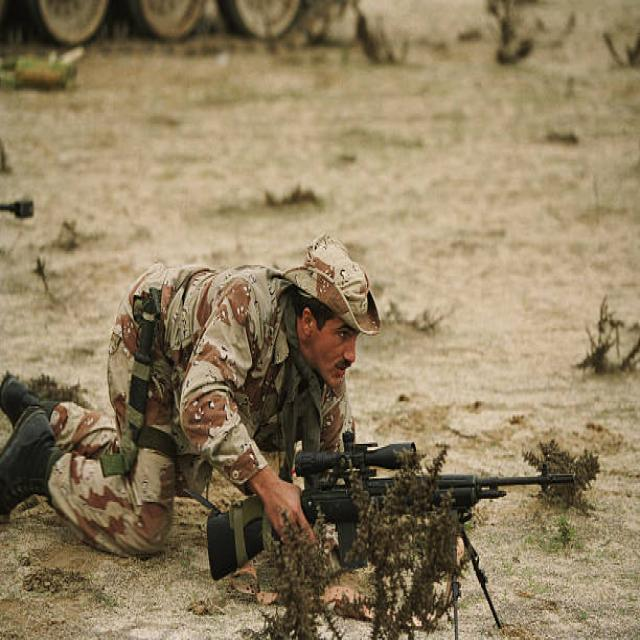soldier: (1, 221, 586, 597)
